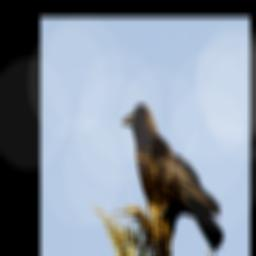Crow: (119, 99, 224, 256)
